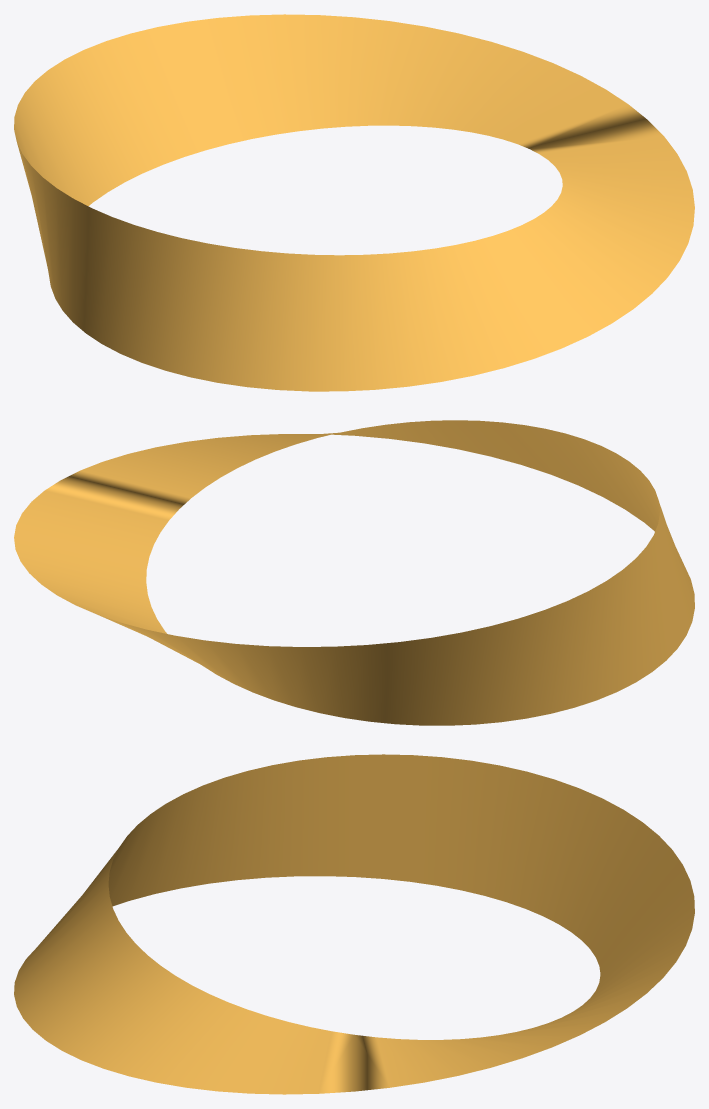
The model's file is mobius-strip-lite.glb.
3 views of the same model, one above another, from view 1: azimuth 30°, elevation 25°; view 2: azimuth 150°, elevation 25°; view 3: azimuth 270°, elevation 25° (orthographic).
Visible parts, largest first — view 1: Mobius strip; view 2: Mobius strip; view 3: Mobius strip.
Part boxes in pixels (bbox=[...]): Mobius strip: bbox=[14, 14, 694, 391]; Mobius strip: bbox=[14, 420, 694, 725]; Mobius strip: bbox=[14, 754, 694, 1094].
Bounding box in the file's own units: 2.24 × 0.46 × 2.33.
